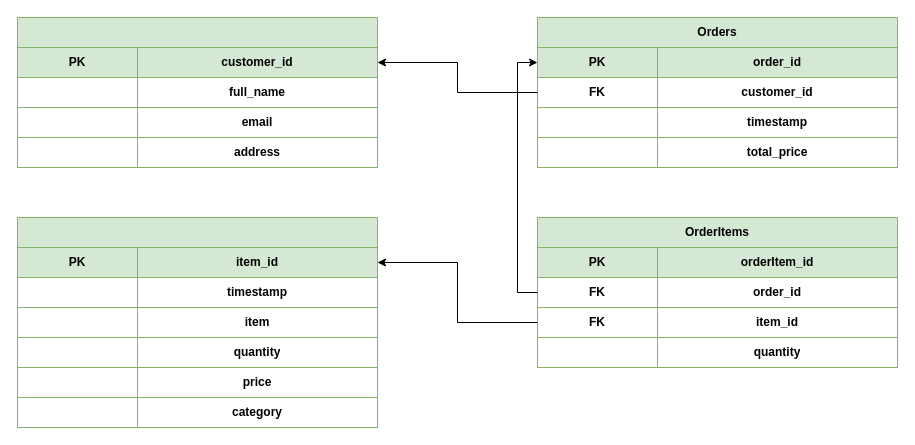
The diagram is 915 pixels wide and 445 high, and some of its shapes have lost their labels. Here are the shapes that lost their labels. From the top down, the box of each, then its label:
(16, 16, 378, 168): Customers
(16, 216, 378, 428): Inventory
